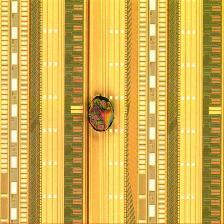PARTICLE: (75, 90, 127, 142)
